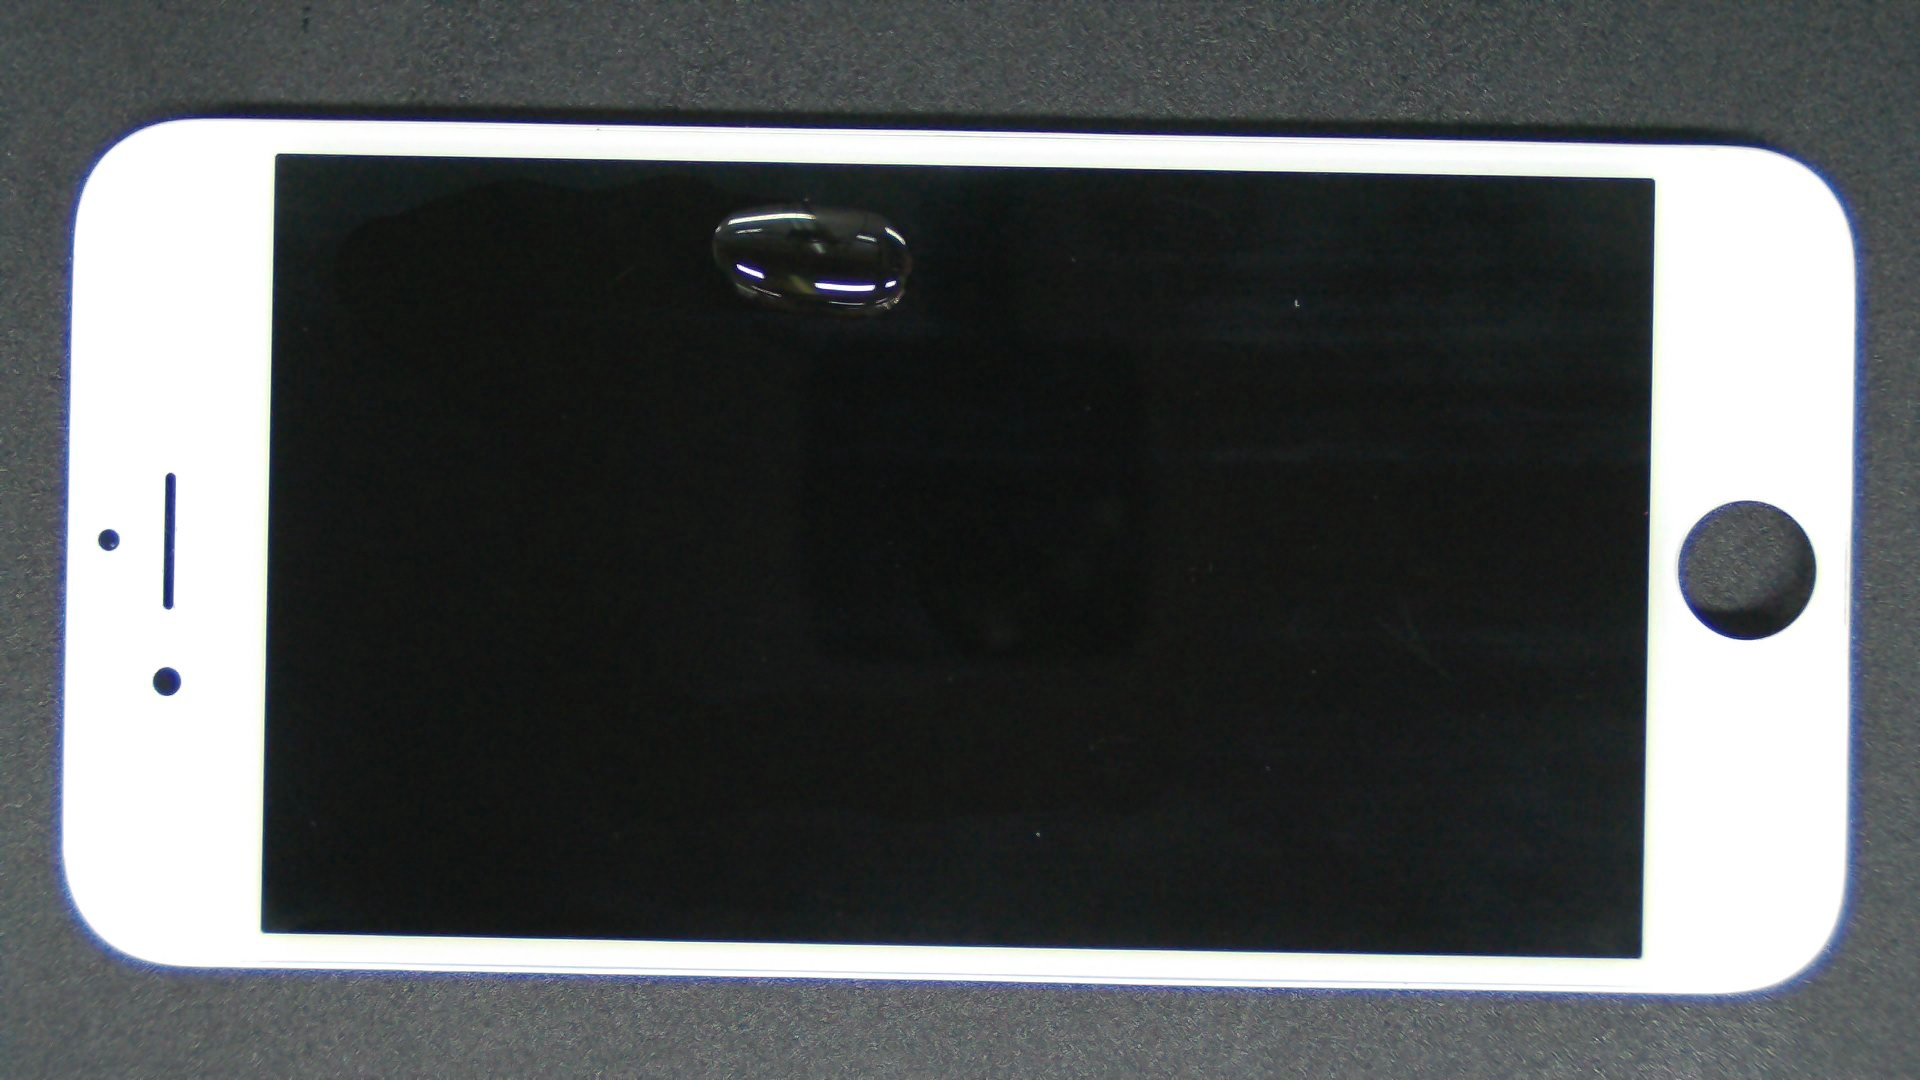oil: (401, 100, 1204, 302)
